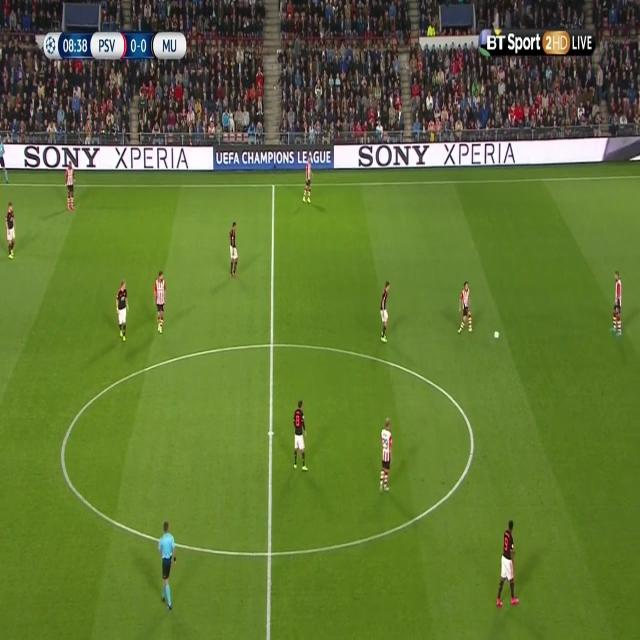Ball: (492, 328, 502, 344)
Player: (494, 518, 521, 614), (377, 416, 395, 496), (292, 398, 309, 474), (455, 280, 474, 342), (113, 278, 130, 345), (610, 268, 626, 338), (152, 268, 168, 336), (2, 201, 18, 263), (63, 159, 80, 214), (379, 281, 393, 344), (227, 219, 240, 280), (302, 157, 316, 207)
Referee: (158, 517, 178, 613), (0, 132, 12, 188)
